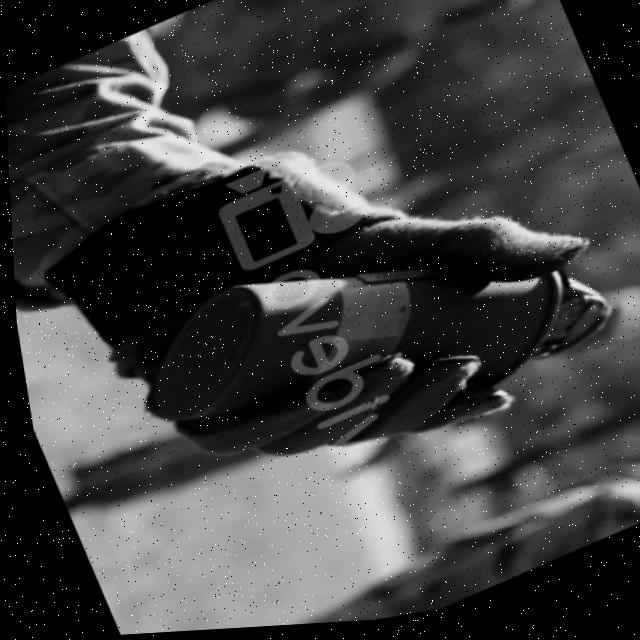grenade: (97, 146, 640, 529)
